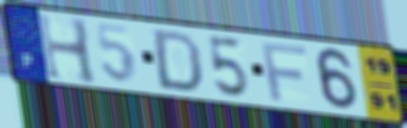5: (205, 32, 251, 99), (94, 21, 141, 86)
6: (314, 46, 362, 113)
D: (152, 28, 204, 94)
F: (259, 41, 309, 103)
H: (35, 11, 101, 87)
